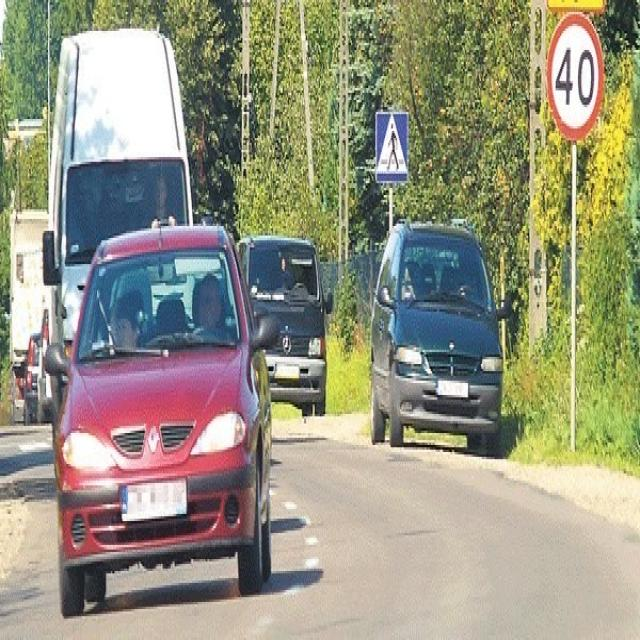Speed Limit -40-: (555, 48, 595, 108)
